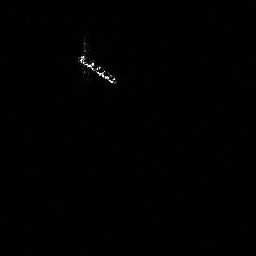ship: (77, 38, 117, 87)
